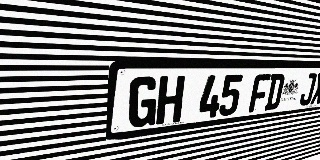4: (198, 75, 224, 119)
5: (218, 75, 243, 117)
D: (264, 74, 286, 111)
F: (248, 74, 271, 113)
G: (127, 76, 159, 129)
H: (156, 76, 185, 125)
J: (299, 73, 318, 106)
X: (310, 73, 320, 105)
